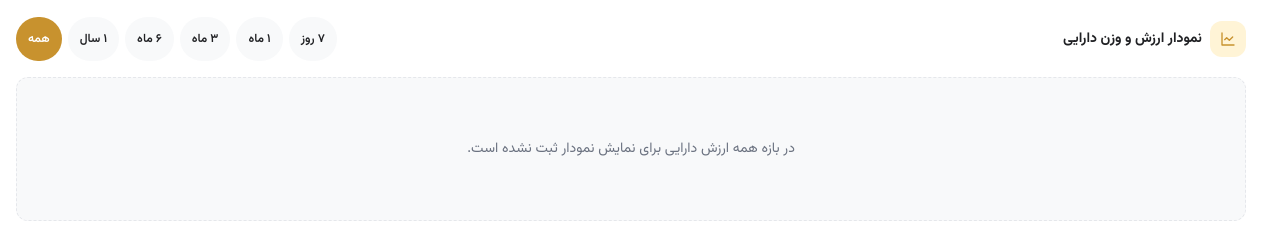
Test: PortfolioValueChart › changes the selected range
The image size is (1263, 238).
expect the text "در بازه همه ارزش دارایی برای نمایش نمودار ثبت نشده است." is shown: met, box [467,135,795,163]
Click the button "۳ ماه" at [205, 39], box [180,17,230,61]
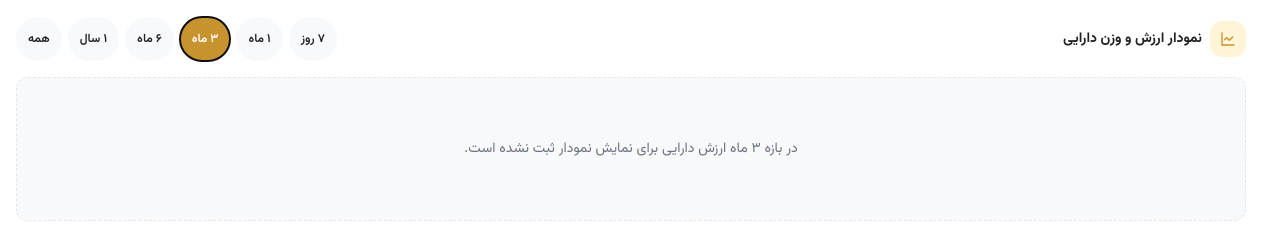
expect the text "در بازه ۳ ماه ارزش دارایی برای نمایش نمودار ثبت نشده است." is shown: met, box [464,135,798,163]
